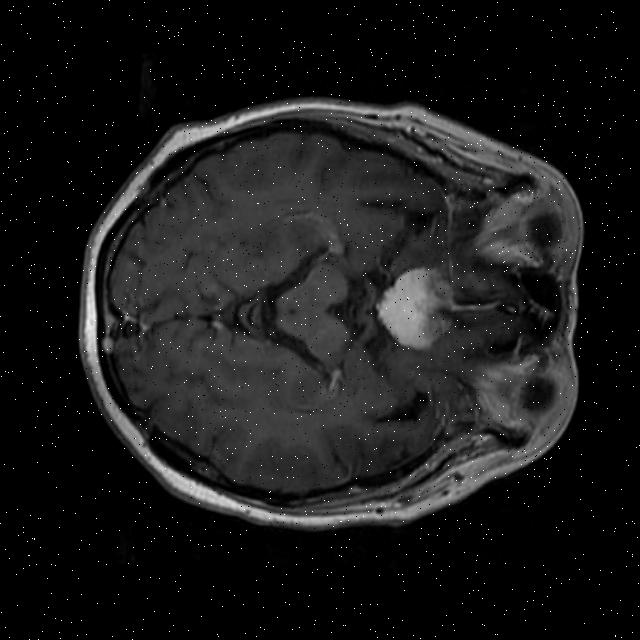Meningioma: (369, 264, 455, 353)
